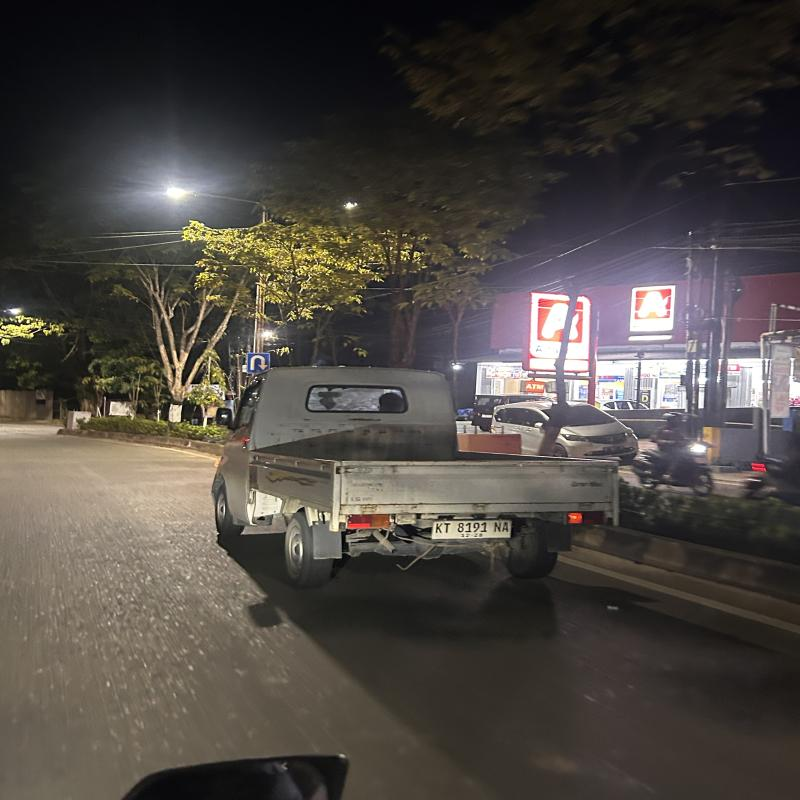license plate on a car: (423, 504, 531, 554)
